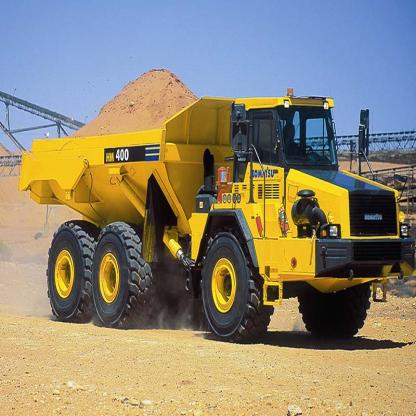dump_truck: (25, 65, 400, 341)
